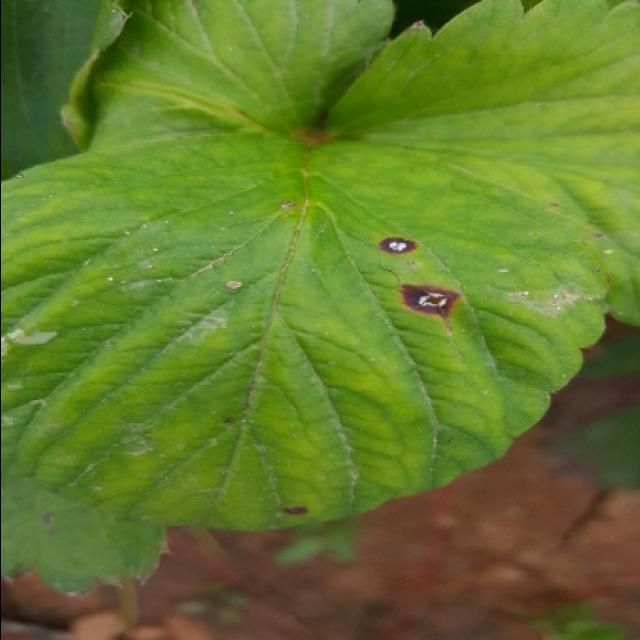Leaf Spot: (2, 129, 610, 532), (2, 474, 171, 599)
